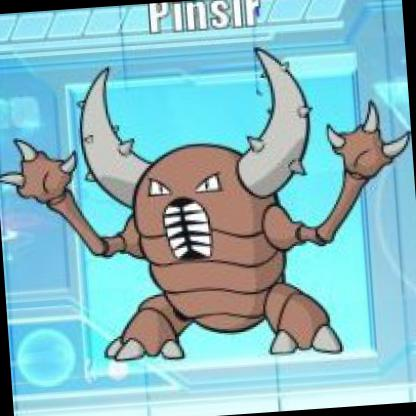Pinsir: (23, 34, 416, 416)
